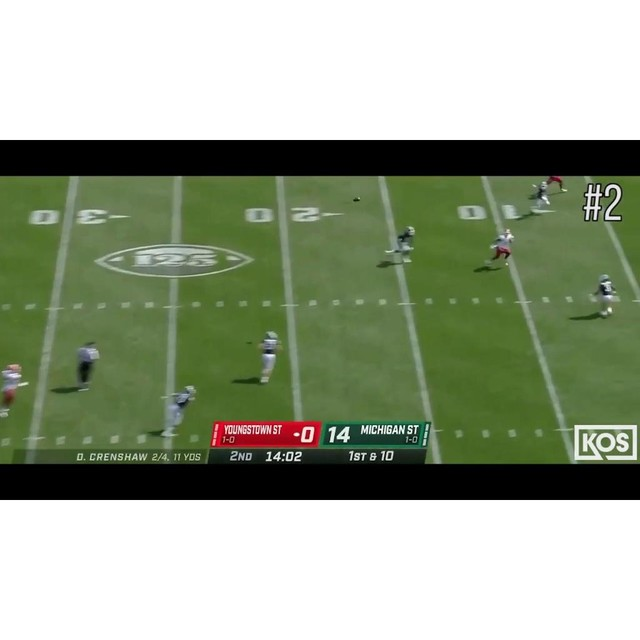american-football-player: (153, 385, 197, 438), (254, 330, 283, 385), (0, 363, 25, 416), (590, 273, 619, 318), (386, 226, 416, 264), (488, 228, 516, 267)
referee: (75, 342, 100, 391)
